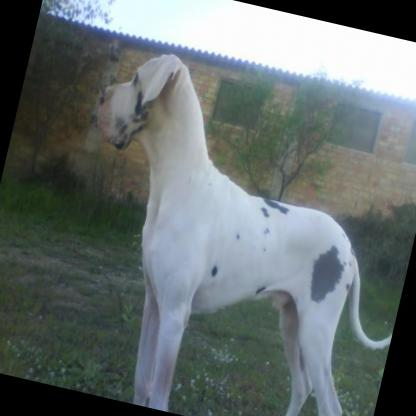Great_Dane: (29, 37, 416, 416)
